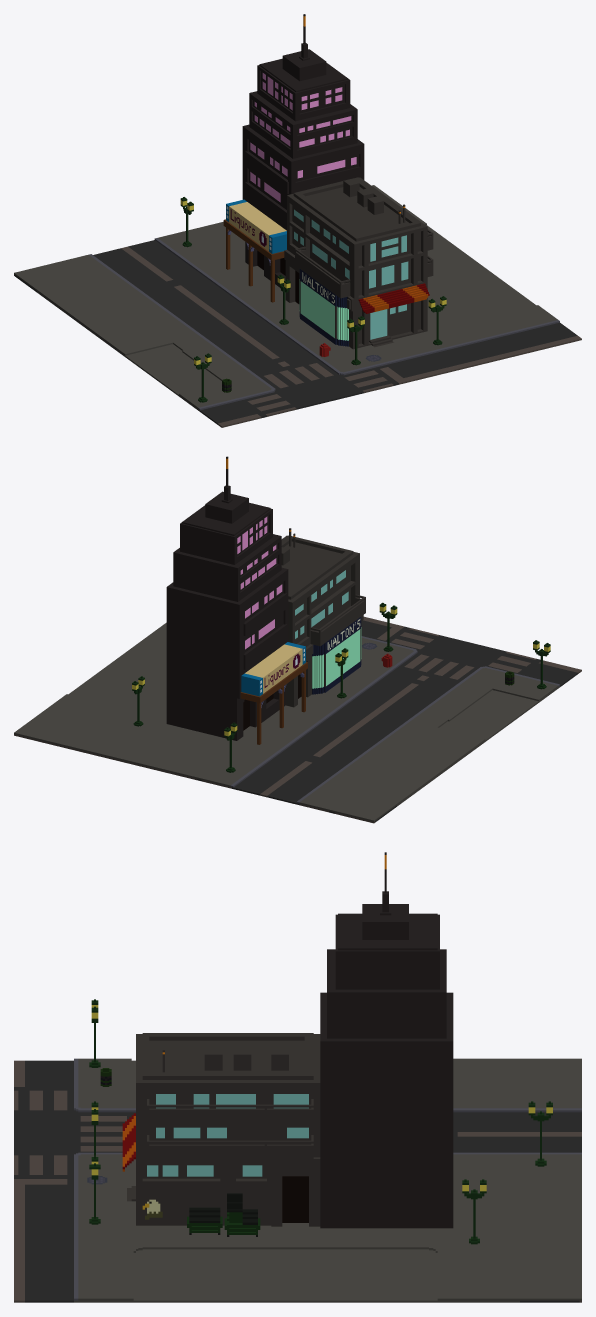
File: Street1.obj
3 views of the same model, one above another, from view 1: azimuth 30°, elevation 25°; view 2: azimuth 150°, elevation 25°; view 3: azimuth 270°, elevation 25° (orthographic). The views are drawn at different scales.
Size of the model in its own units: 25.6 by 17.7 by 25.6.
1 material, 1 textured.
